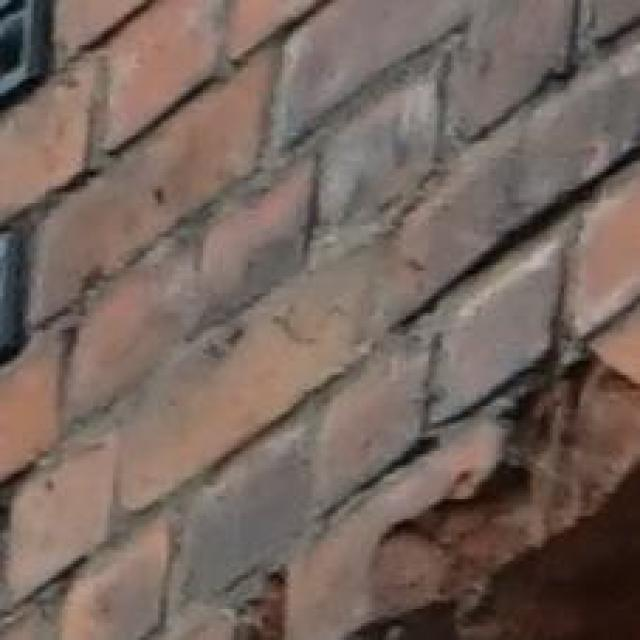Crack: (307, 329, 640, 640)
